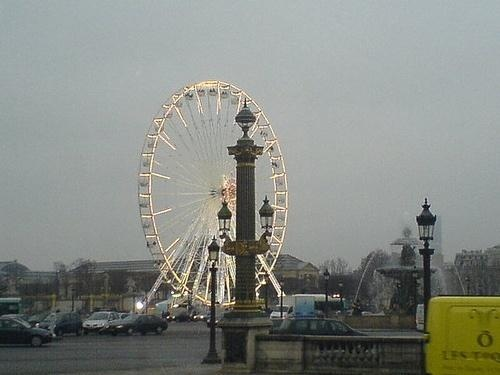car: (277, 315, 368, 337), (1, 315, 56, 350), (110, 311, 171, 338), (37, 310, 82, 336), (84, 312, 120, 335)
